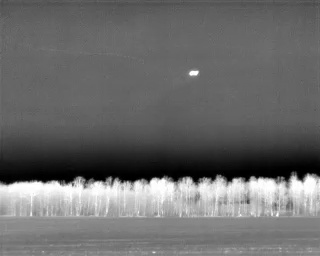DRONE: (184, 65, 203, 81)
